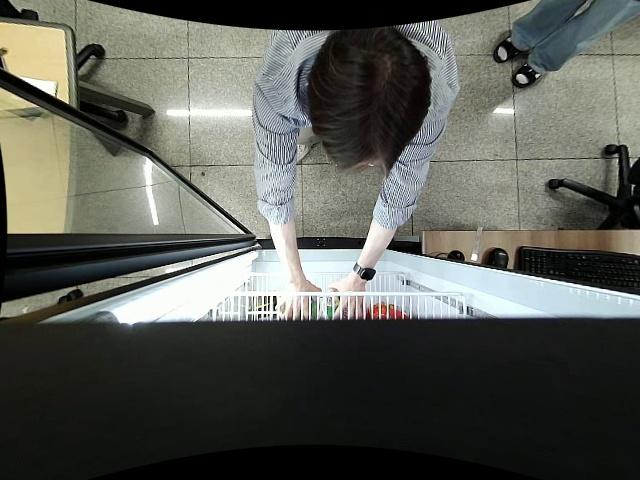00_hand: (273, 276, 321, 321), (328, 278, 365, 320)
09_yukGaeJang: (319, 286, 355, 320)
